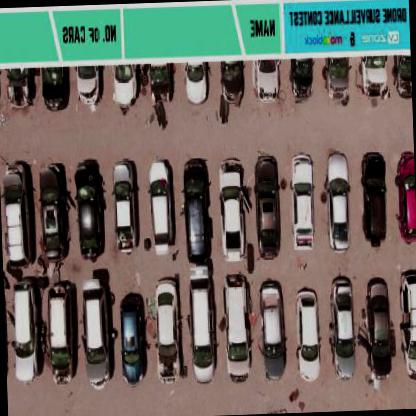car: (0, 161, 32, 272), (74, 160, 108, 258), (188, 265, 215, 385), (38, 162, 72, 257), (81, 272, 109, 384), (362, 276, 392, 380), (44, 276, 72, 387), (221, 271, 249, 382), (153, 276, 182, 382), (10, 283, 40, 382), (252, 152, 280, 258), (216, 158, 245, 260), (182, 159, 210, 260), (258, 278, 286, 378), (326, 276, 353, 379), (358, 150, 387, 244), (322, 153, 350, 250), (110, 160, 138, 254), (118, 292, 146, 386), (289, 149, 315, 248), (294, 289, 320, 380), (146, 158, 170, 252), (393, 151, 415, 244), (398, 265, 415, 378), (216, 60, 245, 106), (40, 69, 66, 112), (150, 60, 172, 110), (112, 68, 138, 110), (324, 59, 348, 104), (361, 56, 387, 96), (289, 59, 313, 102), (253, 61, 277, 104), (183, 63, 206, 106), (6, 70, 32, 108), (73, 67, 97, 104), (394, 54, 412, 99)
